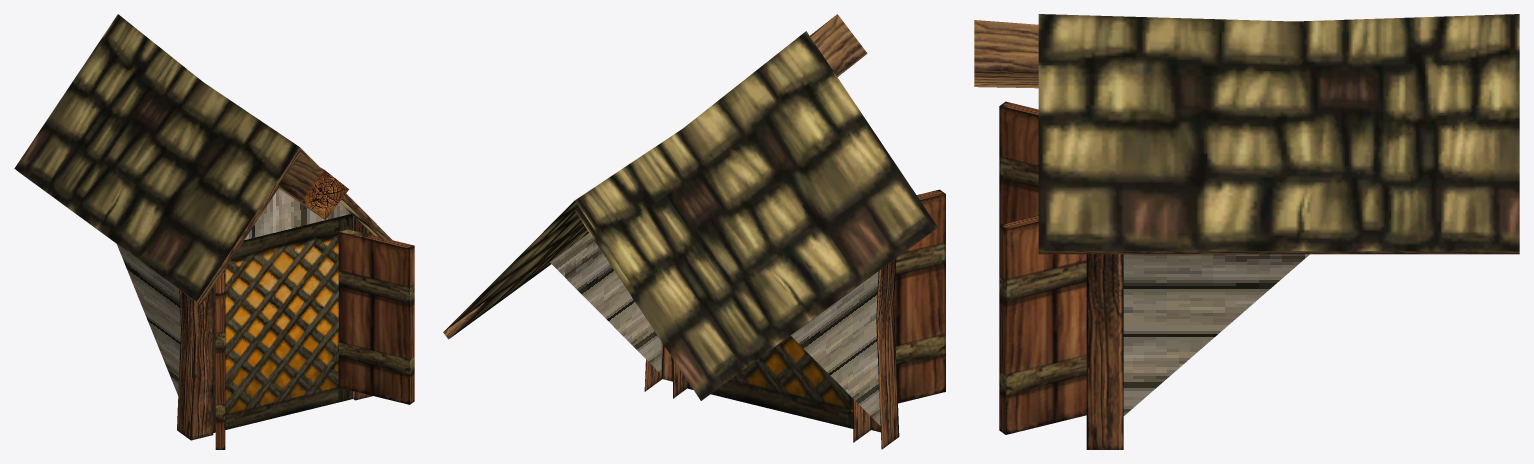
Rendered from INST_LT_CODWINDOW_01.fbx.
3 views of the same model, side by side, from view 1: azimuth 30°, elevation 25°; view 2: azimuth 150°, elevation 25°; view 3: azimuth 270°, elevation 25° (orthographic). The views are drawn at different scales.
Parts seen in each view (by area): view 1: INST_LT_CODWINDOW_01; view 2: INST_LT_CODWINDOW_01; view 3: INST_LT_CODWINDOW_01.
Boxes of the visible parts, x1,y1,x2,y2 form: INST_LT_CODWINDOW_01: [14, 14, 414, 449]; INST_LT_CODWINDOW_01: [443, 14, 945, 449]; INST_LT_CODWINDOW_01: [974, 14, 1519, 449].
Bounding box in the file's own units: 11024 × 14456 × 19045.
Materials: 7 (7 with a texture image).
